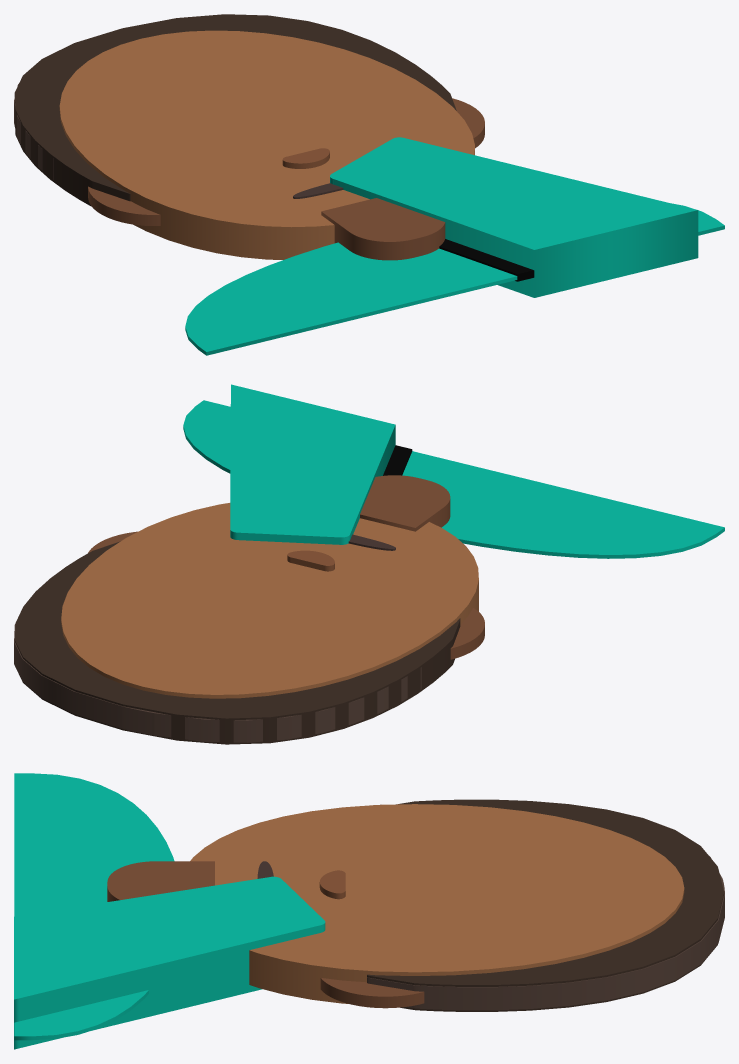
Rendered from emoji_u1f926_1f3fe_200d_2642.glb.
3 views of the same model, one above another, from view 1: azimuth 30°, elevation 25°; view 2: azimuth 150°, elevation 25°; view 3: azimuth 270°, elevation 25° (orthographic). The views are drawn at different scales.
Visible parts, largest first — view 1: emoji_u1f926_1f3fe_200d_2642; view 2: emoji_u1f926_1f3fe_200d_2642; view 3: emoji_u1f926_1f3fe_200d_2642.
Part boxes in pixels (x1,y1,x2,y2): emoji_u1f926_1f3fe_200d_2642: (14, 14, 724, 355); emoji_u1f926_1f3fe_200d_2642: (14, 384, 724, 744); emoji_u1f926_1f3fe_200d_2642: (14, 773, 724, 1049).
Size of the model in its own units: 0.0294 by 0.0026 by 0.0335.
